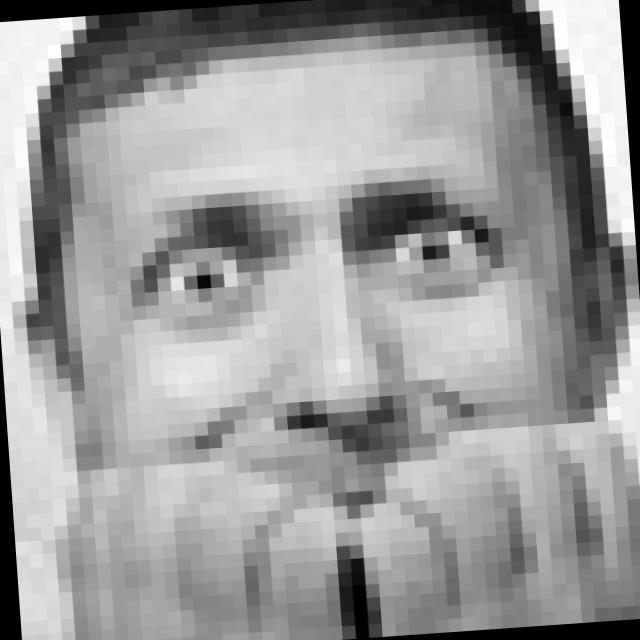fear: (117, 172, 540, 618)
